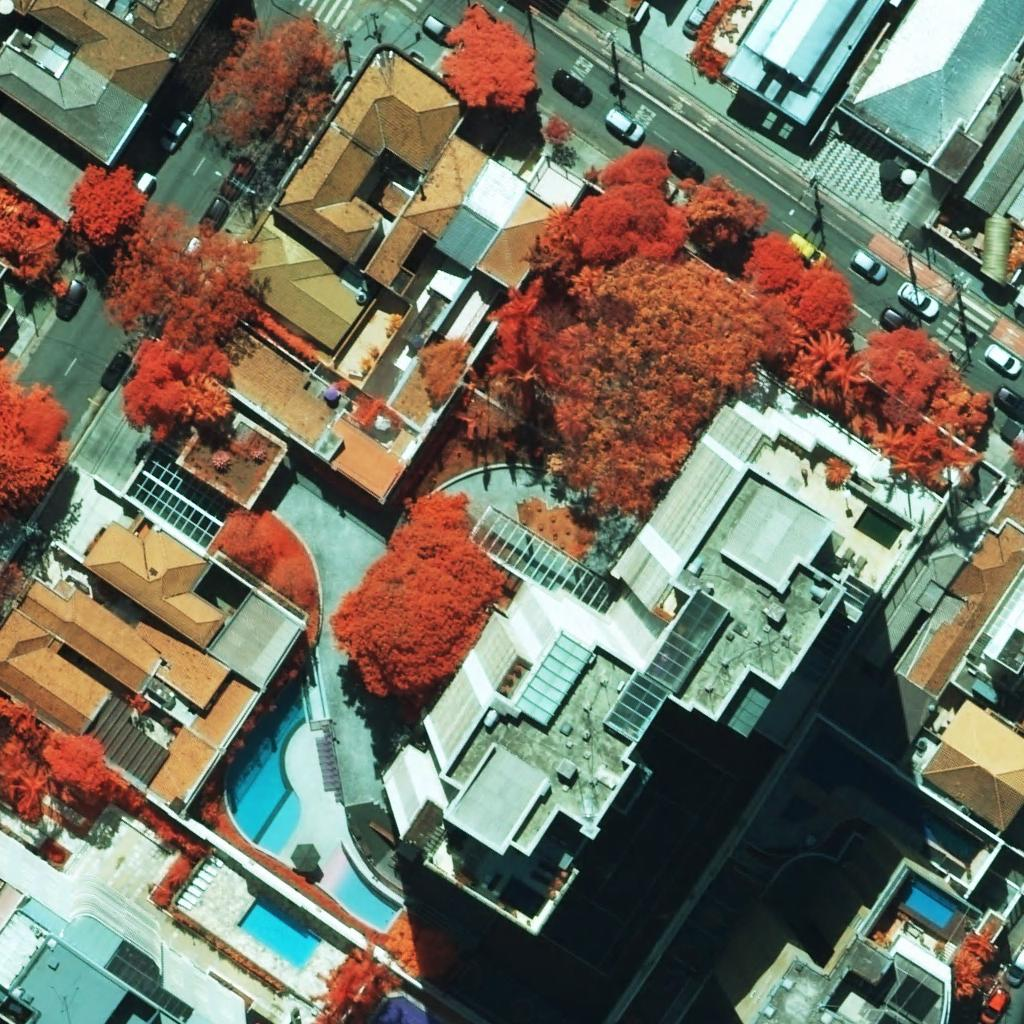pool: (228, 688, 305, 855), (237, 895, 321, 969), (333, 868, 400, 930), (896, 879, 957, 929), (372, 996, 443, 1024)
